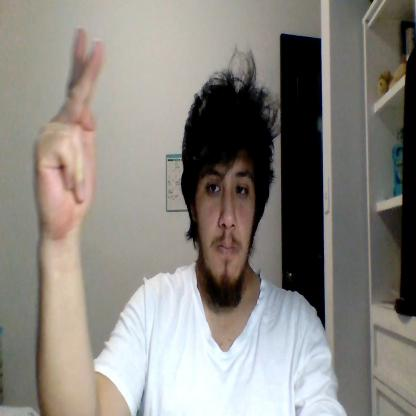P: (32, 26, 104, 239)
